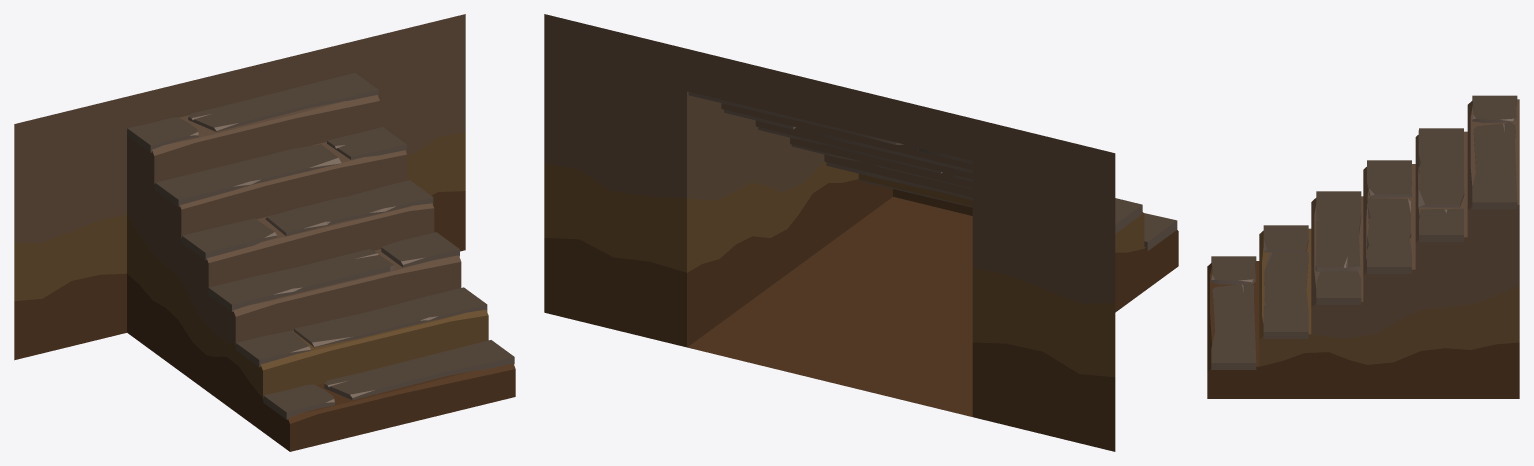
Rendered from 20C_stairs_Trench.fbx.
3 views of the same model, side by side, from view 1: azimuth 30°, elevation 25°; view 2: azimuth 150°, elevation 25°; view 3: azimuth 270°, elevation 25° (orthographic). The views are drawn at different scales.
Visible parts, largest first — view 1: 20C_stairs_Trench; view 2: 20C_stairs_Trench; view 3: 20C_stairs_Trench.
Boxes of the visible parts, box(x1,y1,x2,y2) form: 20C_stairs_Trench: box(14, 14, 515, 451); 20C_stairs_Trench: box(544, 14, 1178, 451); 20C_stairs_Trench: box(1207, 95, 1519, 398).
Bounding box in the file's own units: 40 × 20 × 25.
1 material, 1 textured.
